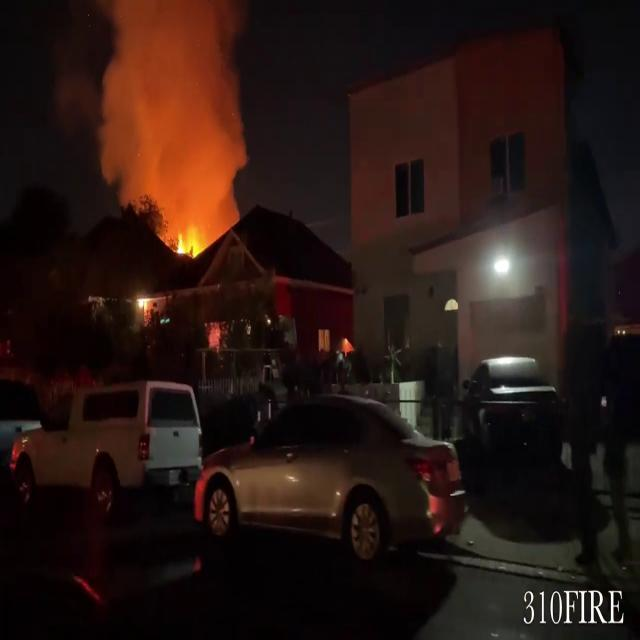Smoke: (87, 0, 255, 228)
